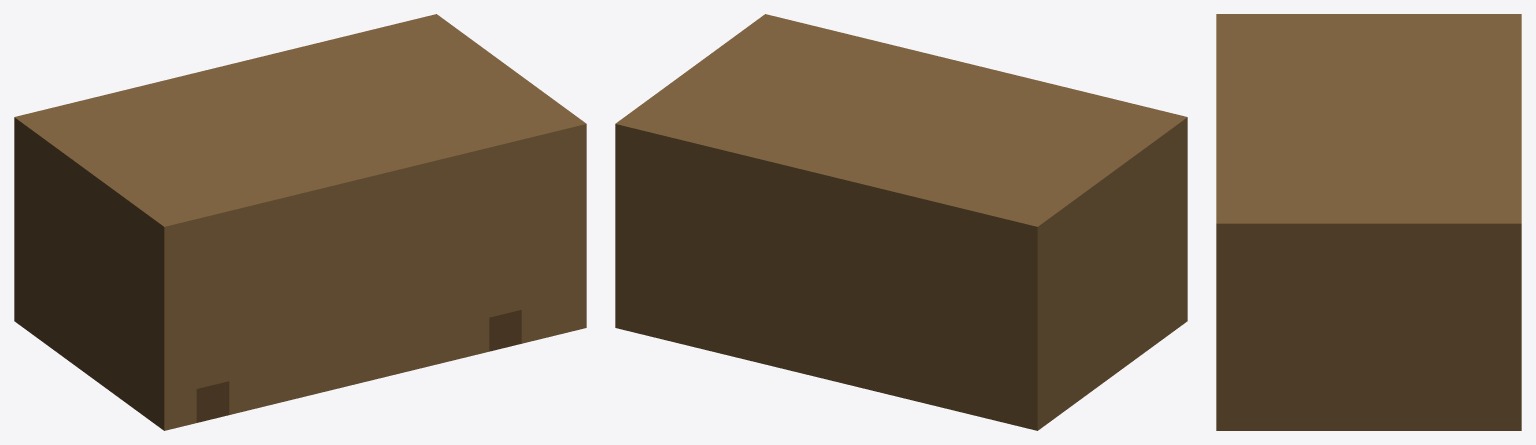
The model's file is crate_lod1.glb.
The picture shows the model from 3 angles, left to right: view 1: azimuth 30°, elevation 25°; view 2: azimuth 150°, elevation 25°; view 3: azimuth 270°, elevation 25°; orthographic projection.
Parts seen in each view (by area): view 1: crate_base, crate_lid; view 2: crate_base, crate_lid; view 3: crate_lid, crate_base.
Boxes of the visible parts, x1=… form: crate_base: x1=14, y1=151, x2=586, y2=430; crate_lid: x1=14, y1=14, x2=586, y2=260; crate_base: x1=615, y1=151, x2=1187, y2=430; crate_lid: x1=615, y1=14, x2=1187, y2=260; crate_lid: x1=1216, y1=14, x2=1521, y2=257; crate_base: x1=1216, y1=258, x2=1521, y2=430.
Bounding box in the file's own units: 1.04 × 0.48 × 0.64.
